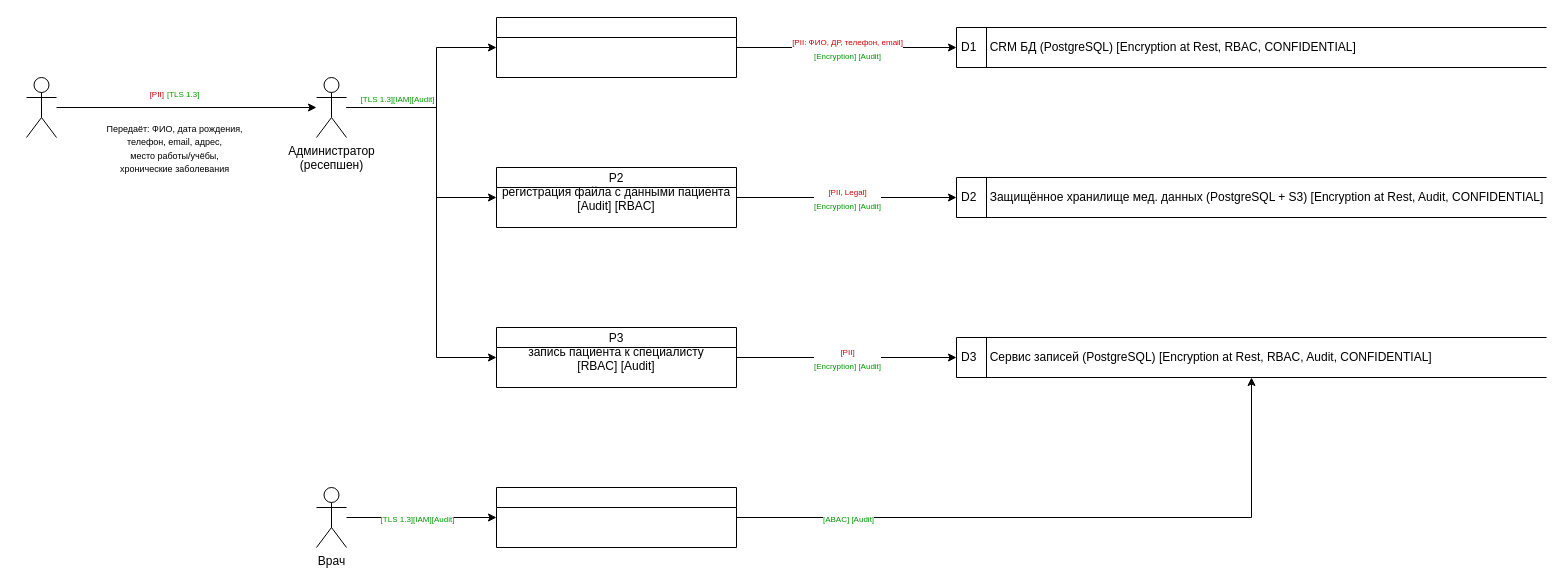
Some shapes in this 1564 by 586 pixel diagram are drawn without their labels. Here are the shapes that lost their labels. From the top down, the centre of each, then its label:
At pixel 616 47: "P1 регистрация пациента в системе [Consent Check] [RBAC]".
At pixel 41 107: "Пациент".
At pixel 616 517: "P4 просмотр и редактирование записей [ABAC: лечащий врач] [Audit]".
